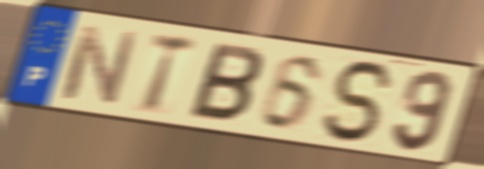6: (258, 53, 327, 132)
9: (391, 67, 455, 155)
B: (184, 40, 266, 127)
N: (57, 22, 141, 109)
S: (321, 58, 399, 146)
T: (142, 30, 201, 117)
